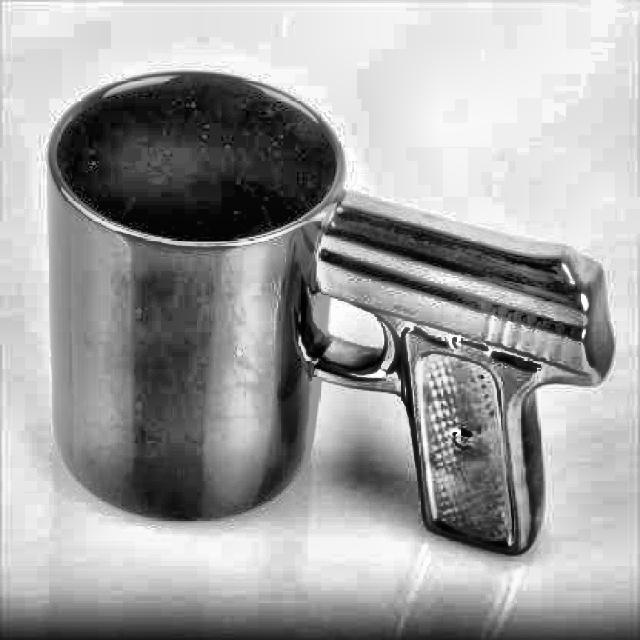Mug: (43, 68, 620, 558)
